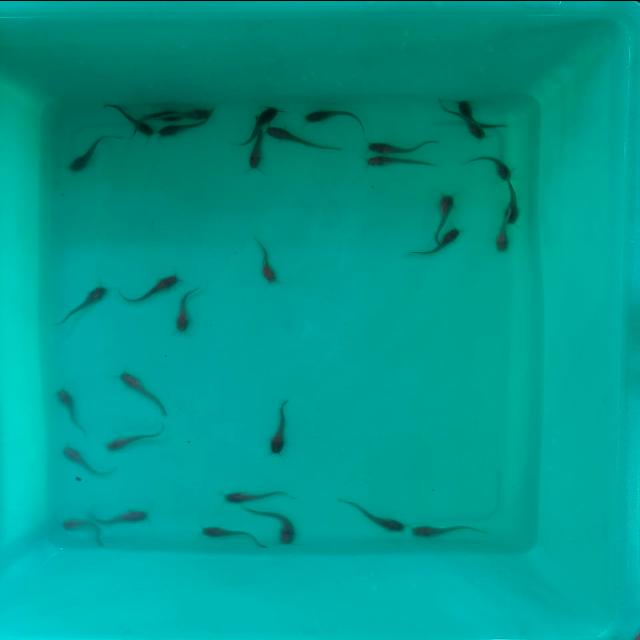lele: (117, 367, 172, 417), (52, 282, 108, 328), (342, 492, 406, 532), (66, 129, 120, 175), (104, 96, 156, 134), (125, 268, 182, 302), (268, 122, 330, 152), (52, 386, 88, 436), (257, 504, 299, 546), (104, 427, 166, 454), (304, 106, 368, 130), (59, 443, 101, 477), (408, 228, 462, 254), (196, 524, 256, 546), (254, 238, 280, 288), (268, 396, 290, 454), (174, 281, 198, 333), (412, 522, 487, 538), (94, 506, 151, 526), (367, 154, 438, 170), (57, 515, 98, 542), (470, 154, 512, 180), (366, 140, 438, 154), (224, 489, 294, 503), (430, 194, 456, 228), (159, 121, 209, 137), (493, 214, 514, 250), (504, 176, 520, 223), (246, 134, 264, 173), (461, 117, 489, 142), (449, 96, 484, 116), (142, 106, 180, 122), (250, 104, 278, 125), (180, 107, 212, 121)
